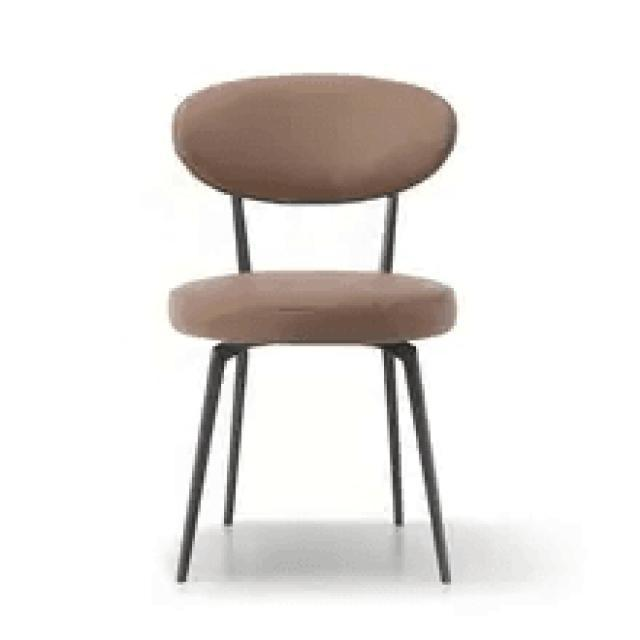chair: (167, 66, 463, 591), (166, 73, 458, 350)
